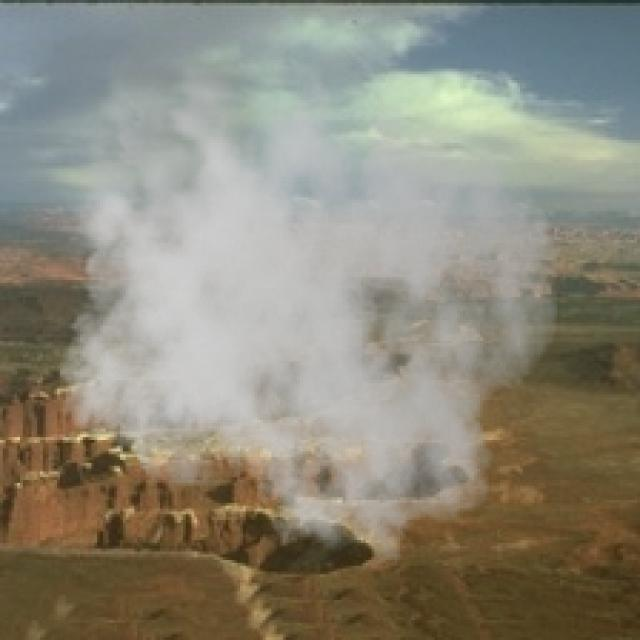smoke: (43, 34, 560, 566)
